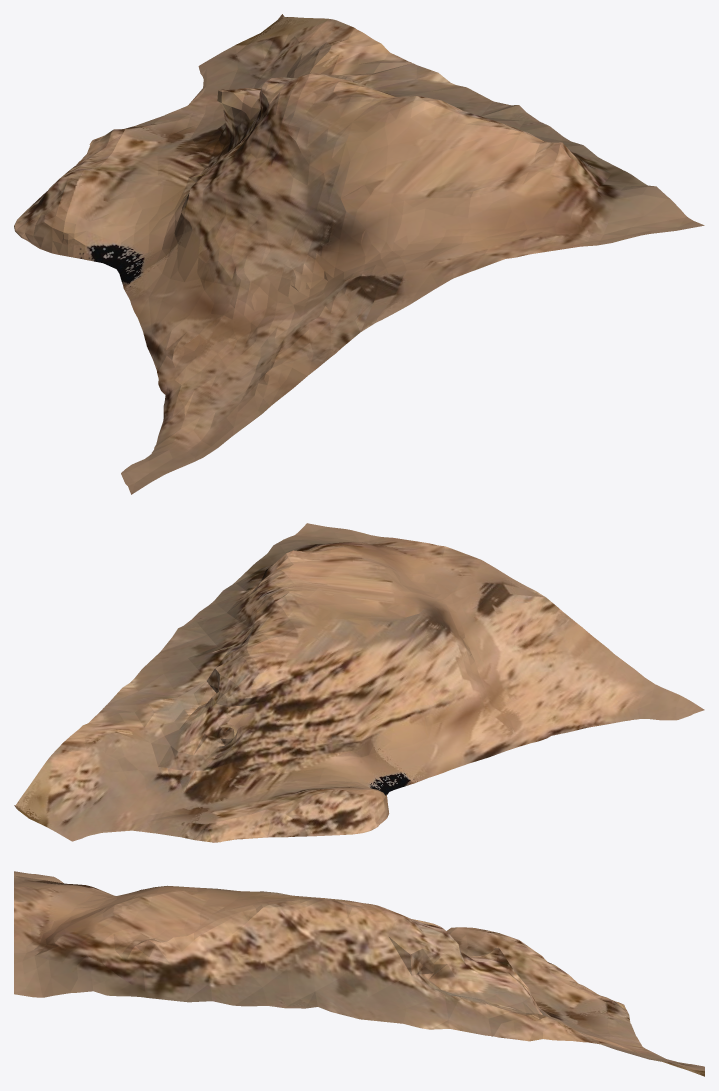
3 renders of one model, top to bottom at view 1: azimuth 30°, elevation 25°; view 2: azimuth 150°, elevation 25°; view 3: azimuth 270°, elevation 25°, orthographic. The views are drawn at different scales.
Bounding box in the file's own units: 1.64 × 0.4721 × 2.09.
Materials: 2 (2 with a texture image).
